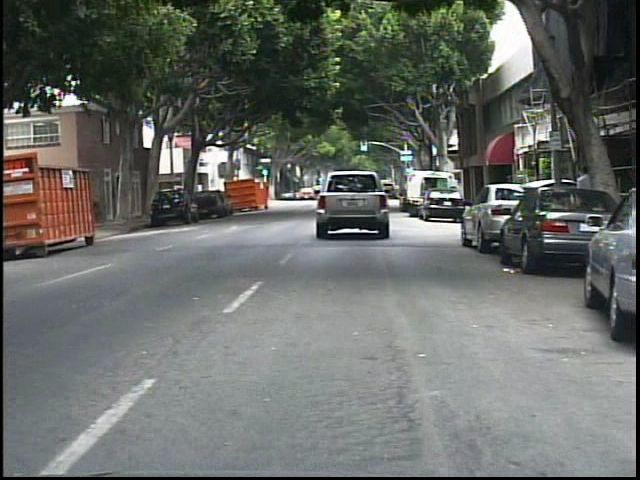person: (567, 160, 598, 240)
